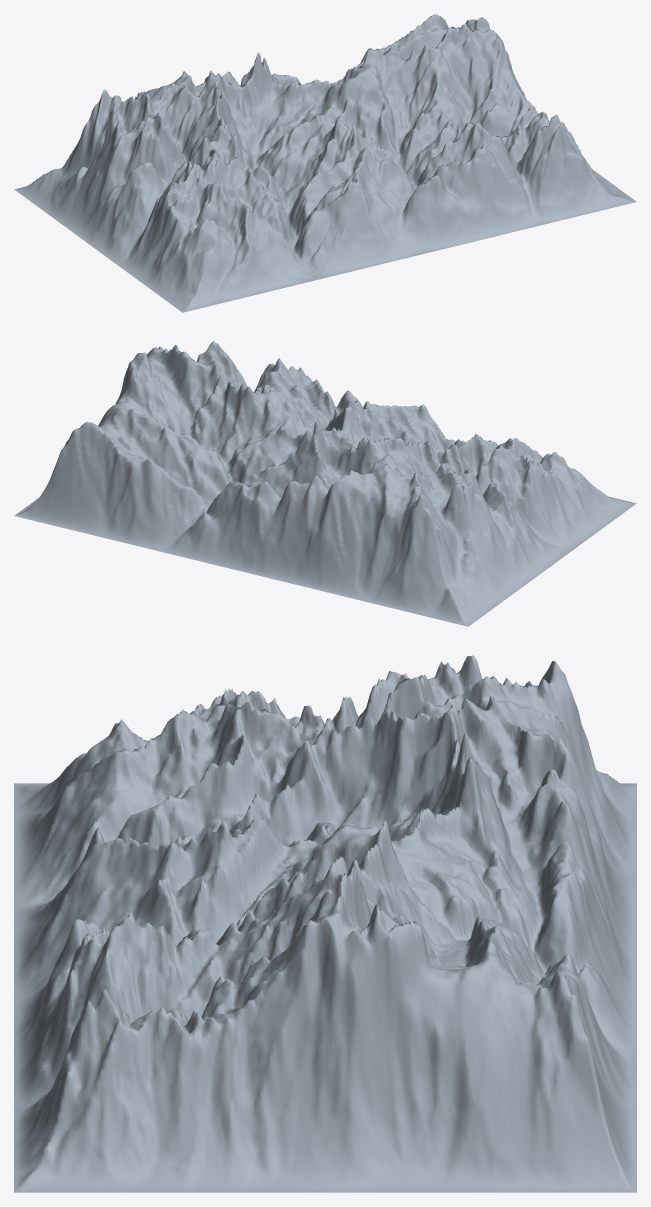
File: matterhorn-ridge.glb
3 views of the same model, one above another, from view 1: azimuth 30°, elevation 25°; view 2: azimuth 150°, elevation 25°; view 3: azimuth 270°, elevation 25° (orthographic). The views are drawn at different scales.
Parts seen in each view (by area): view 1: matterhorn-ridge; view 2: matterhorn-ridge; view 3: matterhorn-ridge.
Boxes of the visible parts, x1,y1,x2,y2 form: matterhorn-ridge: (14,14,636,312); matterhorn-ridge: (14,341,636,626); matterhorn-ridge: (14,655,636,1192).
Size of the model in its own units: 112 by 31.34 by 72.
